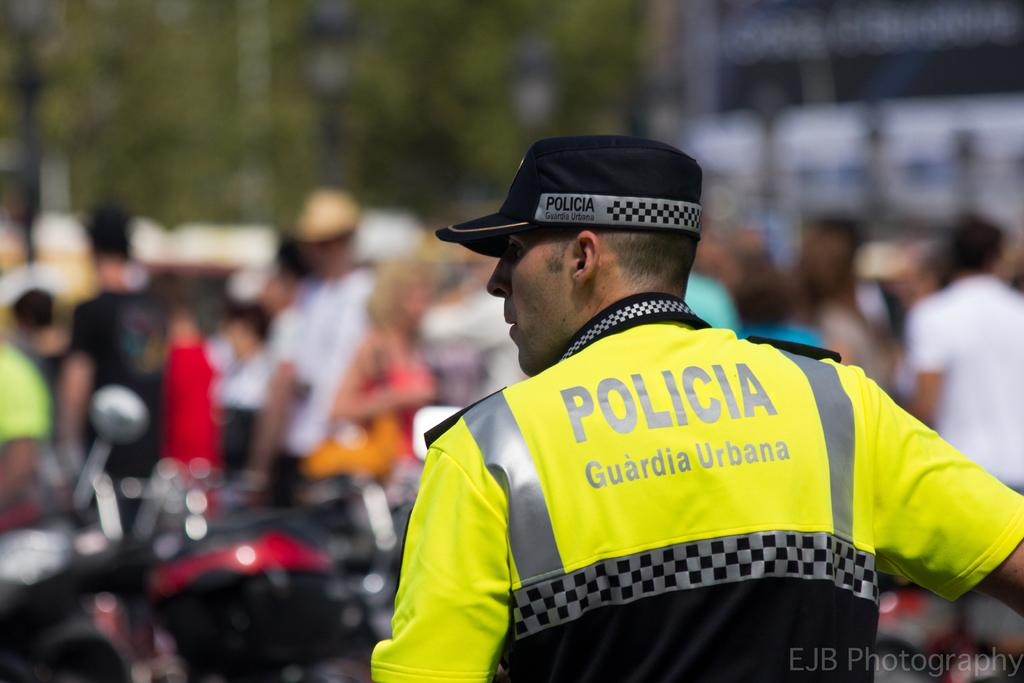Hat: (435, 136, 701, 262), (286, 182, 366, 236)
